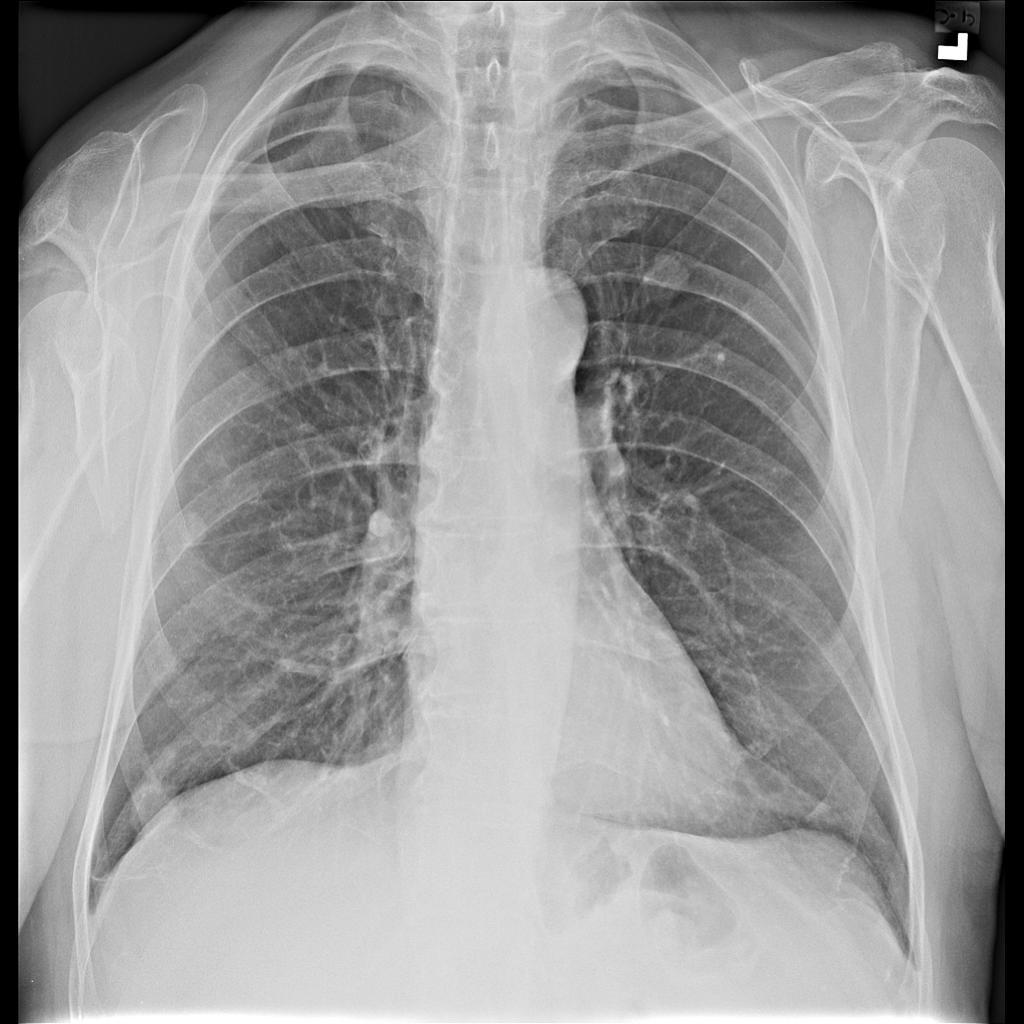Nodule: (172, 513, 210, 549)
